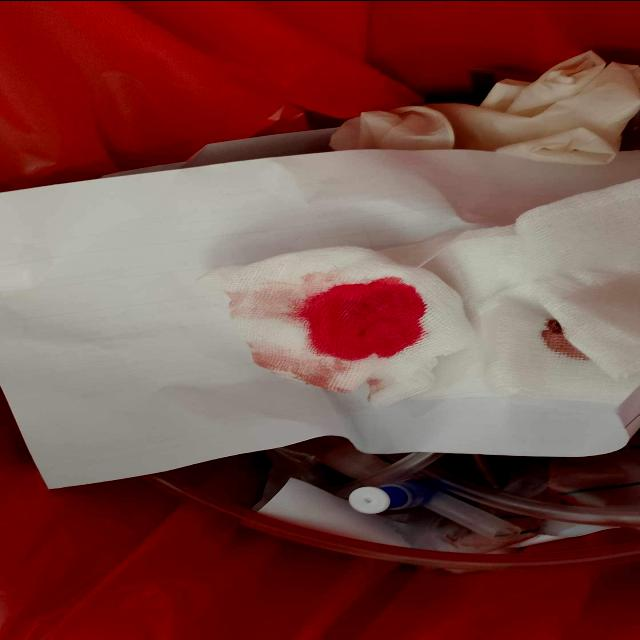Infectious: (0, 146, 638, 487), (195, 244, 478, 406), (326, 48, 638, 164)
Sharps: (347, 477, 524, 538)
